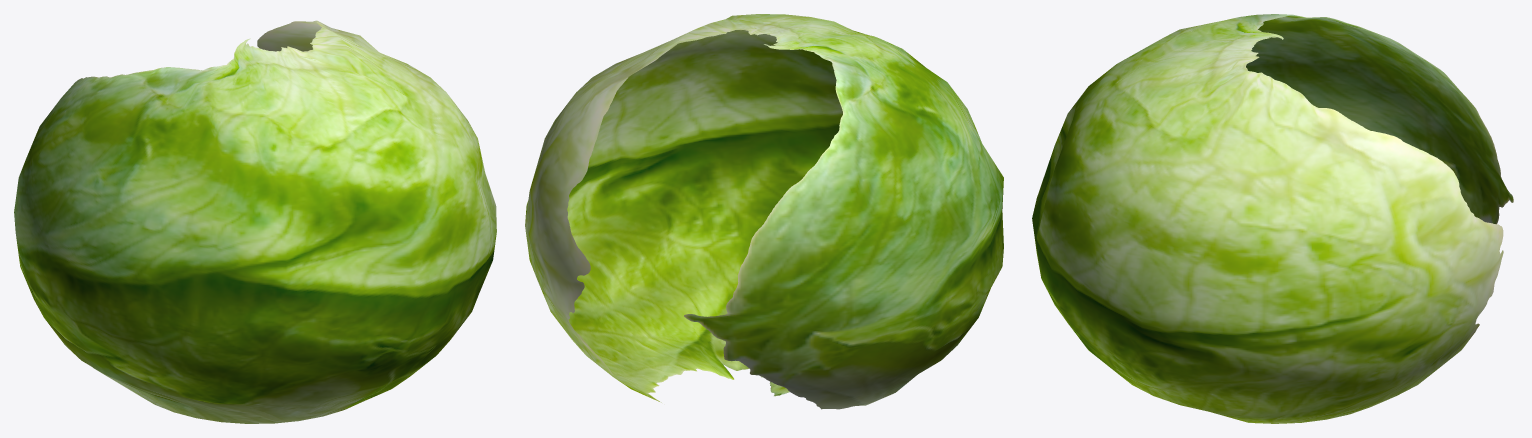
Rendered from Lettuce.FBX.
3 views of the same model, side by side, from view 1: azimuth 30°, elevation 25°; view 2: azimuth 150°, elevation 25°; view 3: azimuth 270°, elevation 25° (orthographic).
Visible parts, largest first — view 1: Sphere001; view 2: Sphere001; view 3: Sphere001.
Part boxes in pixels (x1,y1,x2,y2): Sphere001: (14,20,496,423); Sphere001: (525,14,1003,409); Sphere001: (1032,14,1513,423).
Size of the model in its own units: 63.07 by 51.69 by 63.68.
1 material, 1 textured.
